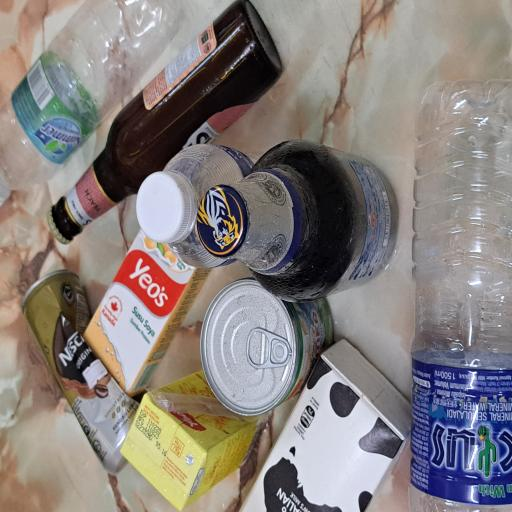can: (29, 32, 185, 188), (74, 270, 170, 444)
drink carton: (0, 317, 136, 512), (0, 163, 106, 351)
glass bottle: (204, 71, 384, 375), (162, 262, 280, 512)
plastic bottle: (241, 5, 384, 239), (183, 228, 274, 361)
pop tab: (108, 330, 134, 386)
